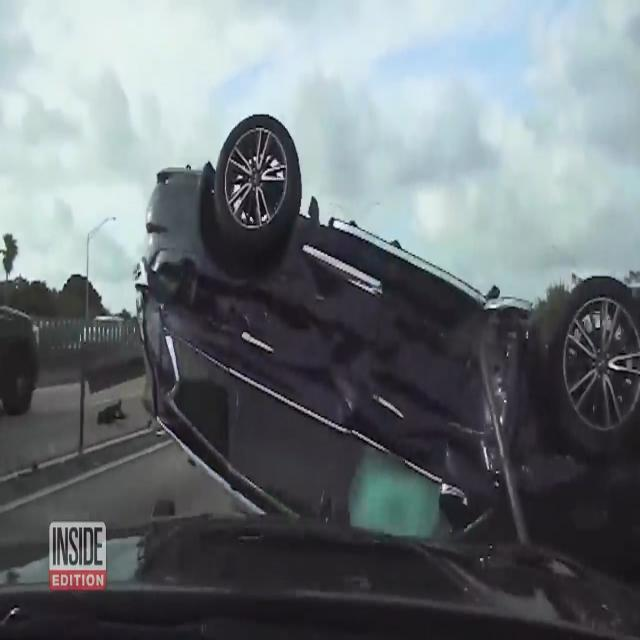accident: (129, 111, 640, 549)
